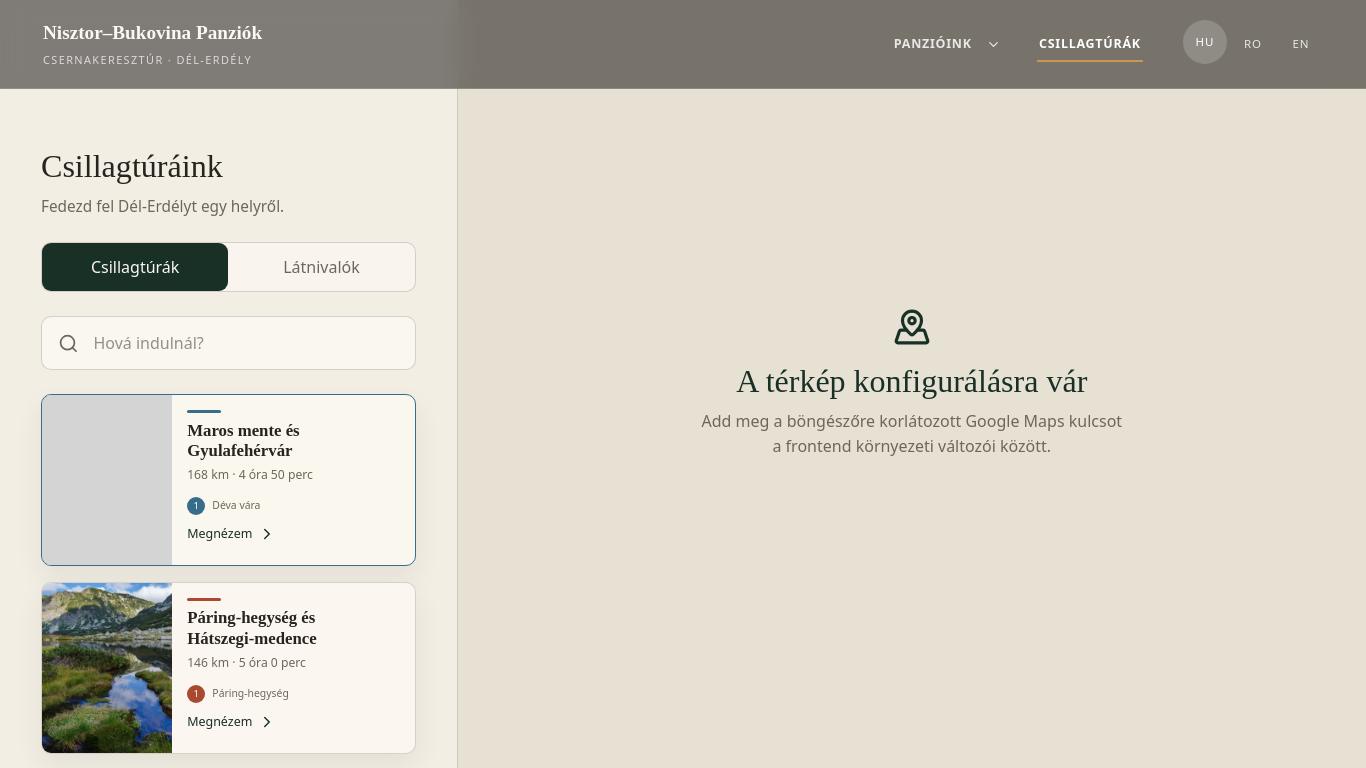
TourismMapPage › opens tour details when the mobile card is swiped upward
Press the mouse on the element "Maros mente és Gyulafehérvár" at (228, 480), box [41, 394, 416, 566]
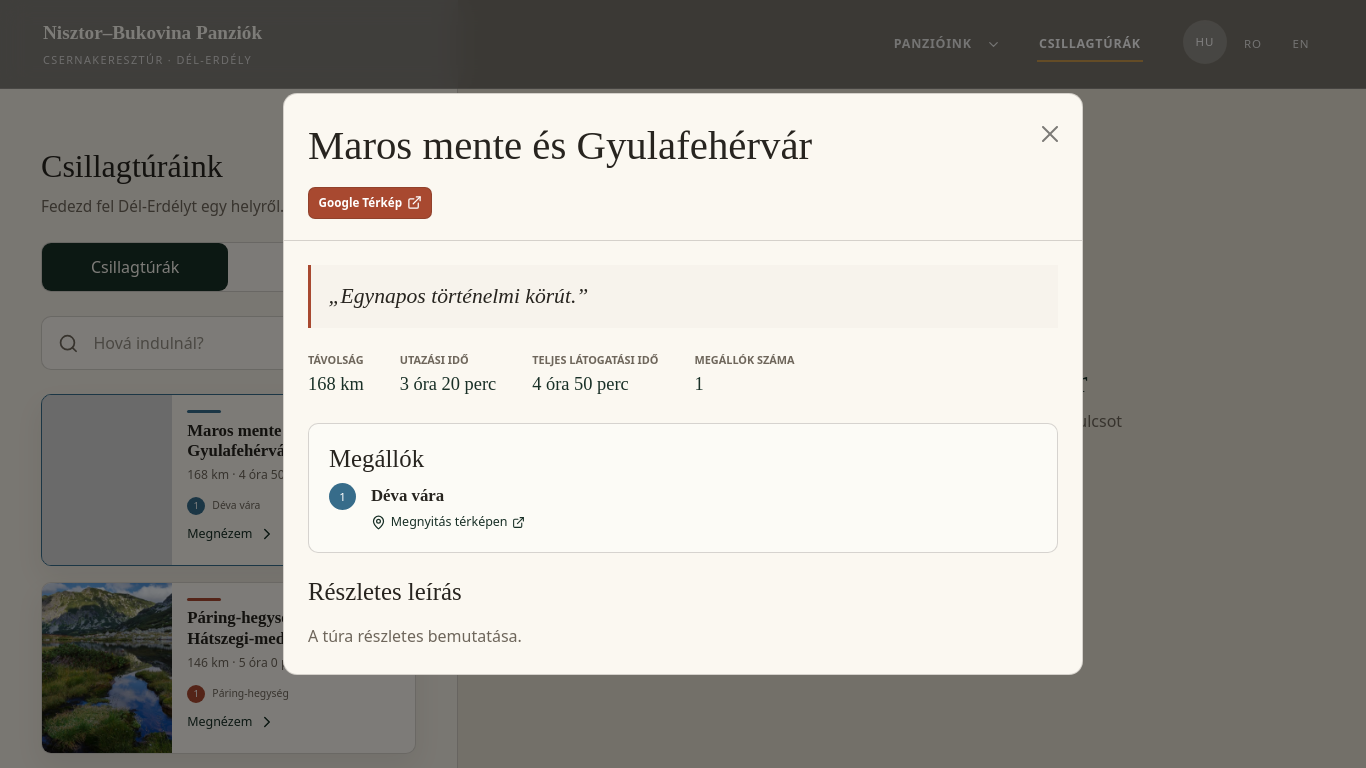
Expected: the text with class "tourism-modal-quote" shows "Egynapos történelmi körút.", [341, 284, 576, 308]
Expected: the dialog shows "A túra részletes bemutatása.", [308, 626, 522, 648]
Expected: the element named "Teljes túra megnyitása Google Mapsben" is shown, [284, 94, 1082, 241]
